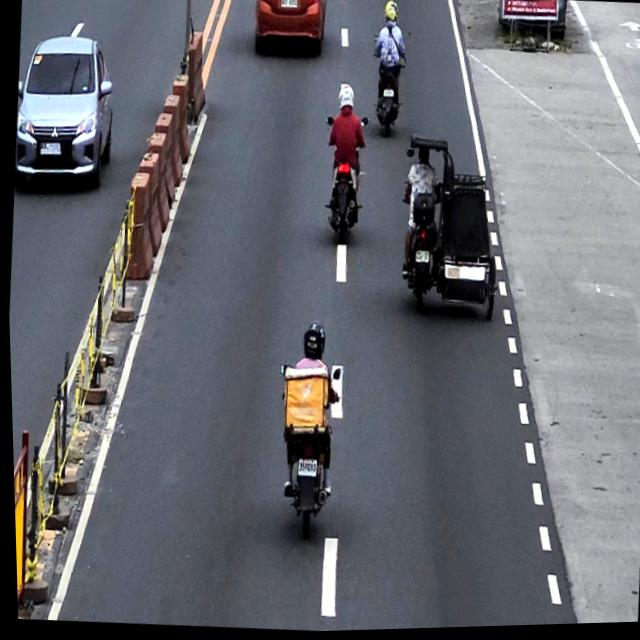Car: (251, 0, 329, 63)
License-Plate: (294, 459, 314, 479), (414, 252, 429, 266), (280, 0, 298, 11), (381, 90, 394, 100)
Motorcycle: (268, 359, 345, 543), (315, 113, 371, 249), (365, 32, 410, 141)
Tricycle: (395, 131, 505, 331)
